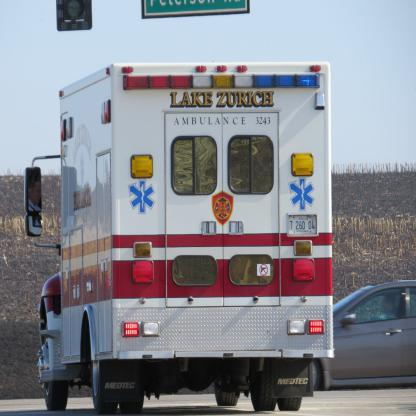Ambulance: (24, 54, 336, 414)
Car: (310, 280, 415, 393)
Truck: (24, 62, 332, 415)
